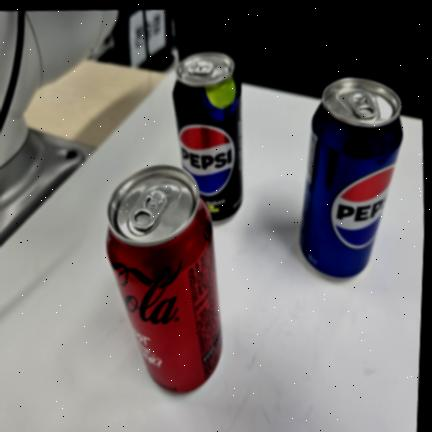can_coke_zero: (106, 166, 225, 396)
can_pepsi: (300, 75, 405, 281)
can_pepsi_zero: (174, 52, 244, 223)
